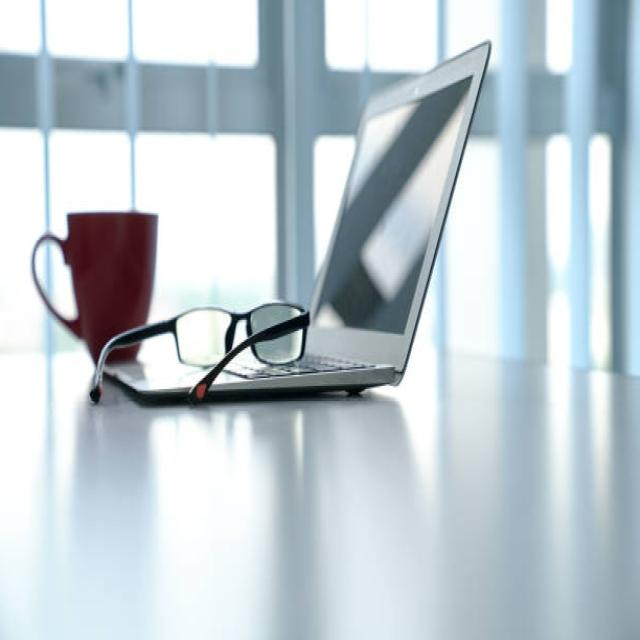Red_cup: (31, 212, 156, 360)
